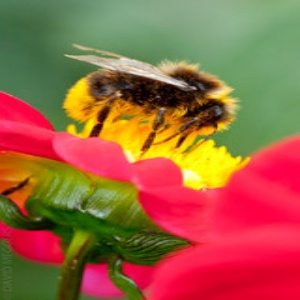bee: (60, 44, 242, 150)
